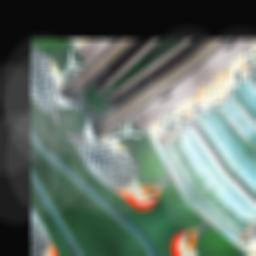Woodpecker: (55, 92, 184, 225)
